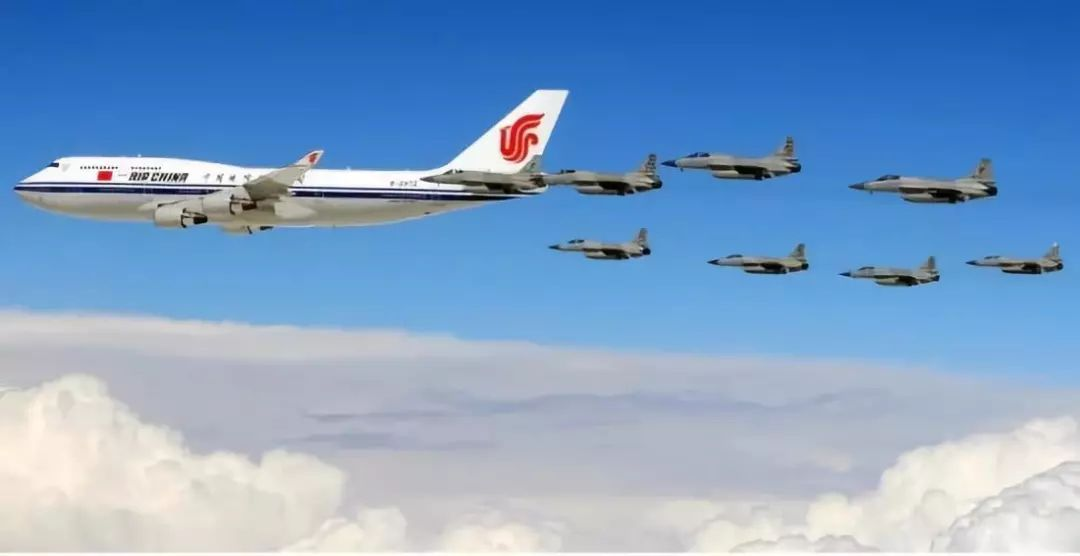airplane: (16, 86, 579, 239), (415, 151, 552, 210), (848, 155, 1006, 205), (657, 138, 806, 190), (543, 152, 667, 199), (825, 255, 944, 290), (705, 240, 812, 277), (964, 240, 1062, 275)
